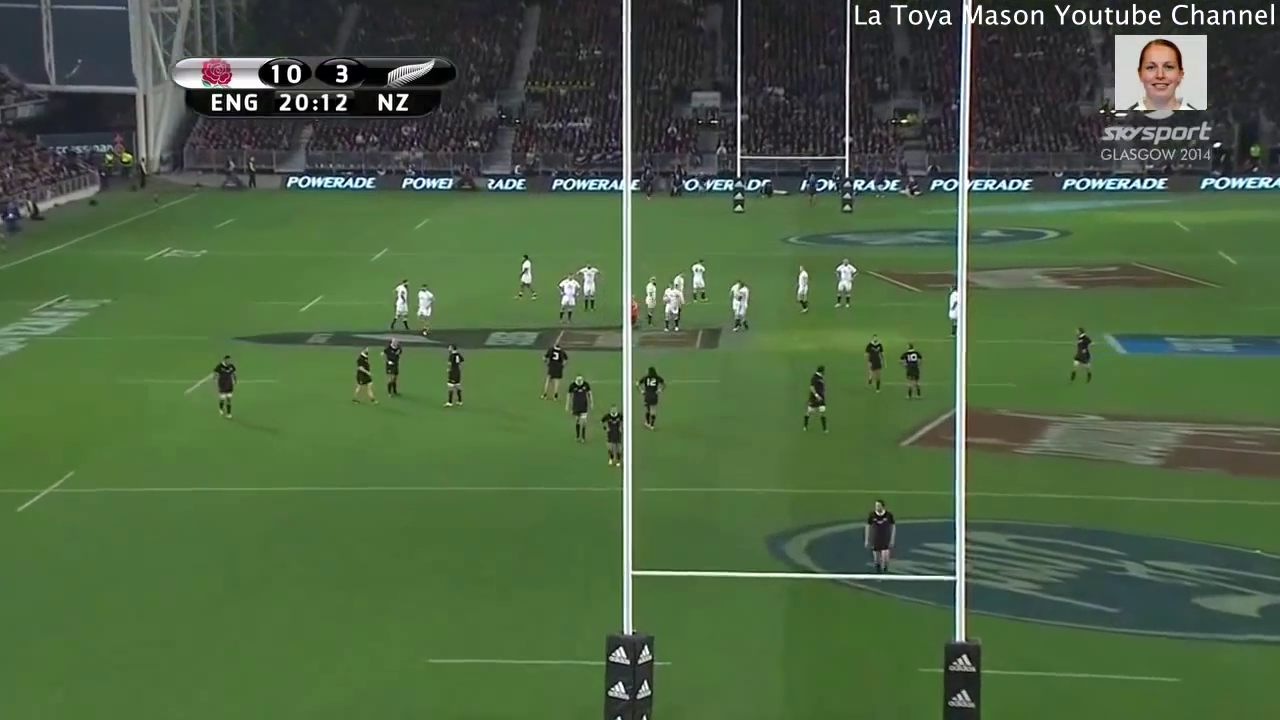10_metre: (246, 291, 377, 317)
player: (119, 365, 290, 405), (797, 361, 838, 440), (207, 351, 245, 427), (1059, 318, 1098, 392), (861, 495, 897, 574), (632, 360, 667, 441), (347, 341, 381, 416), (438, 341, 469, 415), (504, 248, 542, 306), (536, 342, 569, 408), (655, 272, 687, 340), (564, 370, 593, 445), (895, 342, 928, 407), (550, 267, 581, 335), (595, 398, 624, 470), (573, 260, 604, 323), (828, 256, 861, 315), (385, 273, 413, 337), (861, 332, 889, 393), (410, 281, 438, 341), (378, 333, 403, 399), (685, 256, 714, 310), (789, 261, 815, 318), (734, 279, 757, 338), (640, 273, 659, 338), (940, 280, 957, 340), (726, 272, 743, 320), (630, 288, 642, 341), (670, 264, 687, 299), (805, 172, 817, 208)
post: (587, 1, 999, 720), (724, 1, 857, 220)
